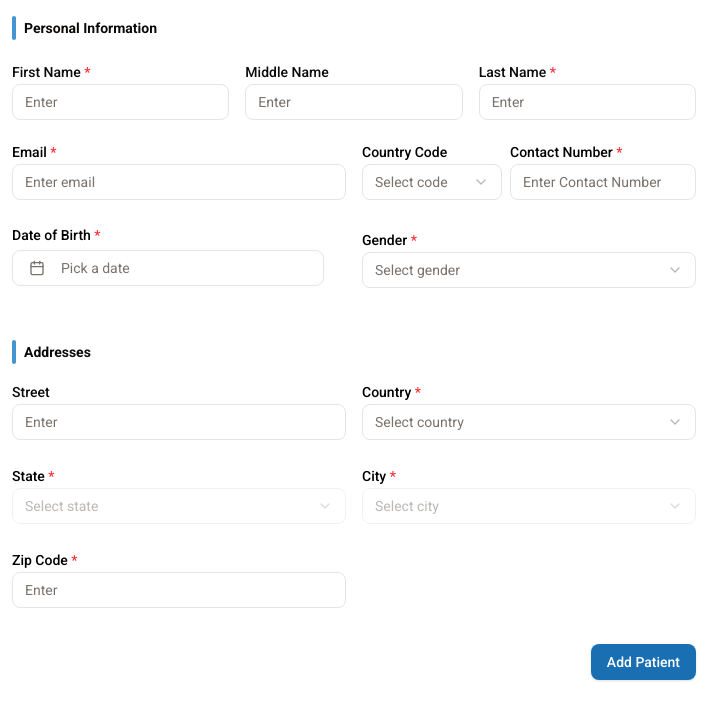
Test: PatientOnboardingForm Integration › shows email validation error
Type "invalid-email" into the field labelled "Email *" at coordinates (179, 182), box [12,164,346,200]
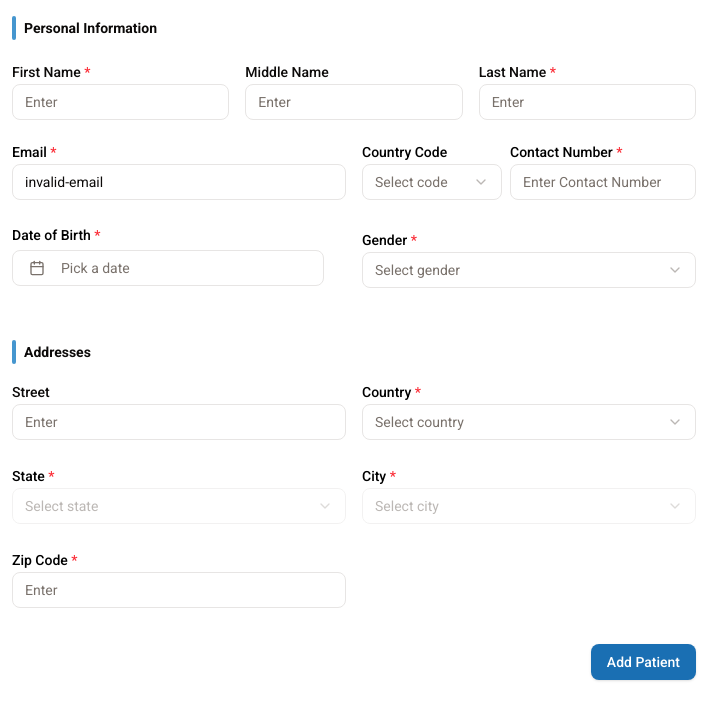
Click the button "Add Patient" at coordinates (643, 662), box [591,644,696,680]
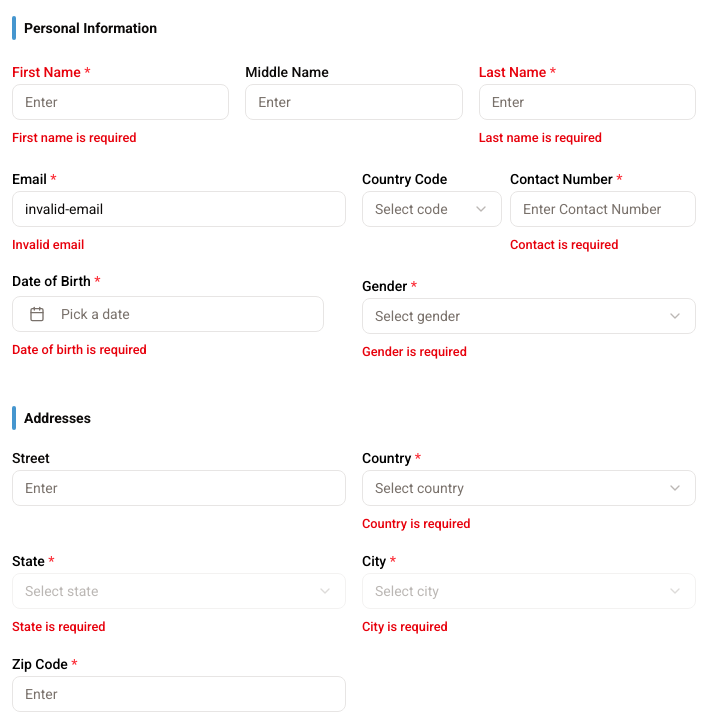
Now the text "Invalid email" is shown, box [12,237,84,252]
